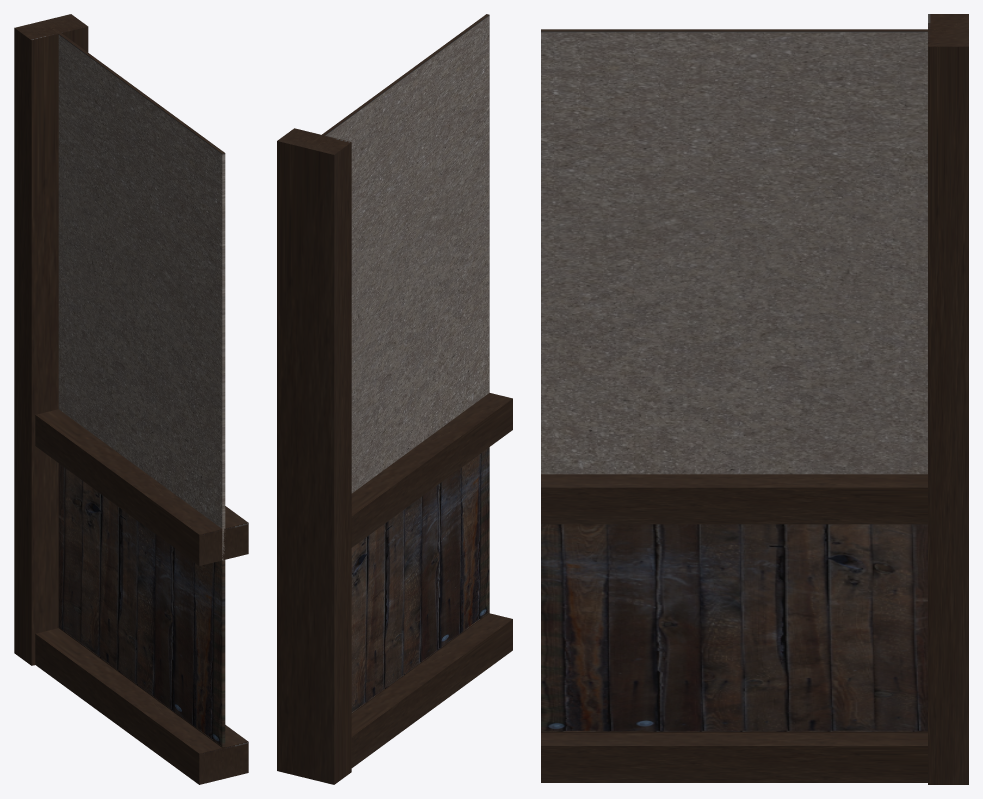
Rendered from OutdoorArchitecture_HalfWall_RightEdge_BShortt.fbx.
3 renders of one model, left to right at view 1: azimuth 30°, elevation 25°; view 2: azimuth 150°, elevation 25°; view 3: azimuth 270°, elevation 25°, orthographic. The views are drawn at different scales.
Parts seen in each view (by area): view 1: OutdoorArchitecture_HalfWall_RightEdge_BShortt; view 2: OutdoorArchitecture_HalfWall_RightEdge_BShortt; view 3: OutdoorArchitecture_HalfWall_RightEdge_BShortt.
Boxes of the visible parts, x1,y1,x2,y2 form: OutdoorArchitecture_HalfWall_RightEdge_BShortt: (14, 14, 248, 784); OutdoorArchitecture_HalfWall_RightEdge_BShortt: (277, 14, 512, 784); OutdoorArchitecture_HalfWall_RightEdge_BShortt: (541, 14, 968, 784).
Bounding box in the file's own units: 28.5 × 300 × 158.
